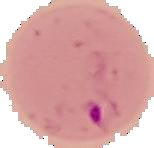parasitized: (63, 62, 138, 136)
